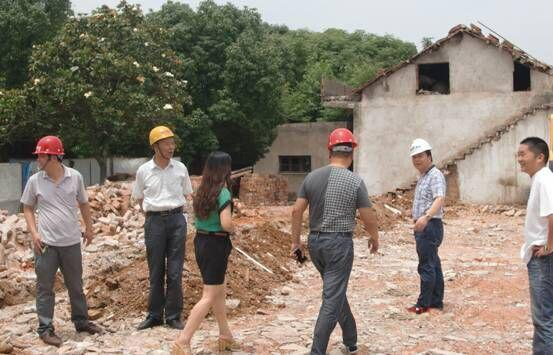helmet: (328, 127, 361, 152), (34, 136, 66, 157), (150, 126, 179, 148), (408, 138, 434, 159)
